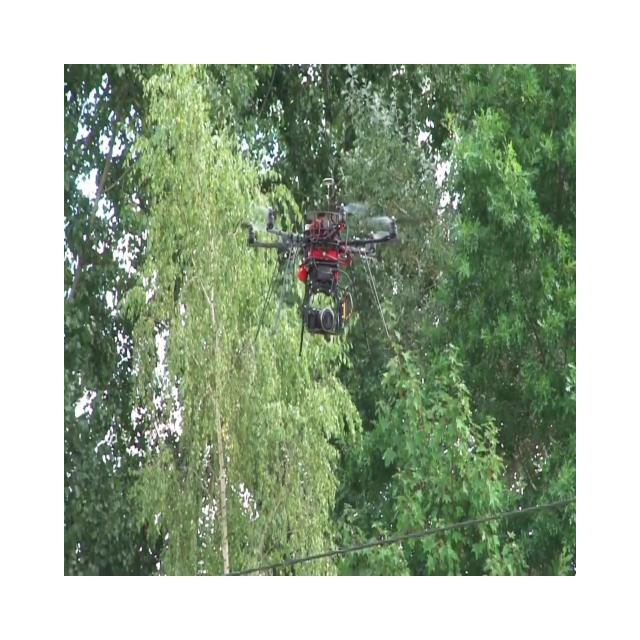drone: (236, 175, 404, 357)
